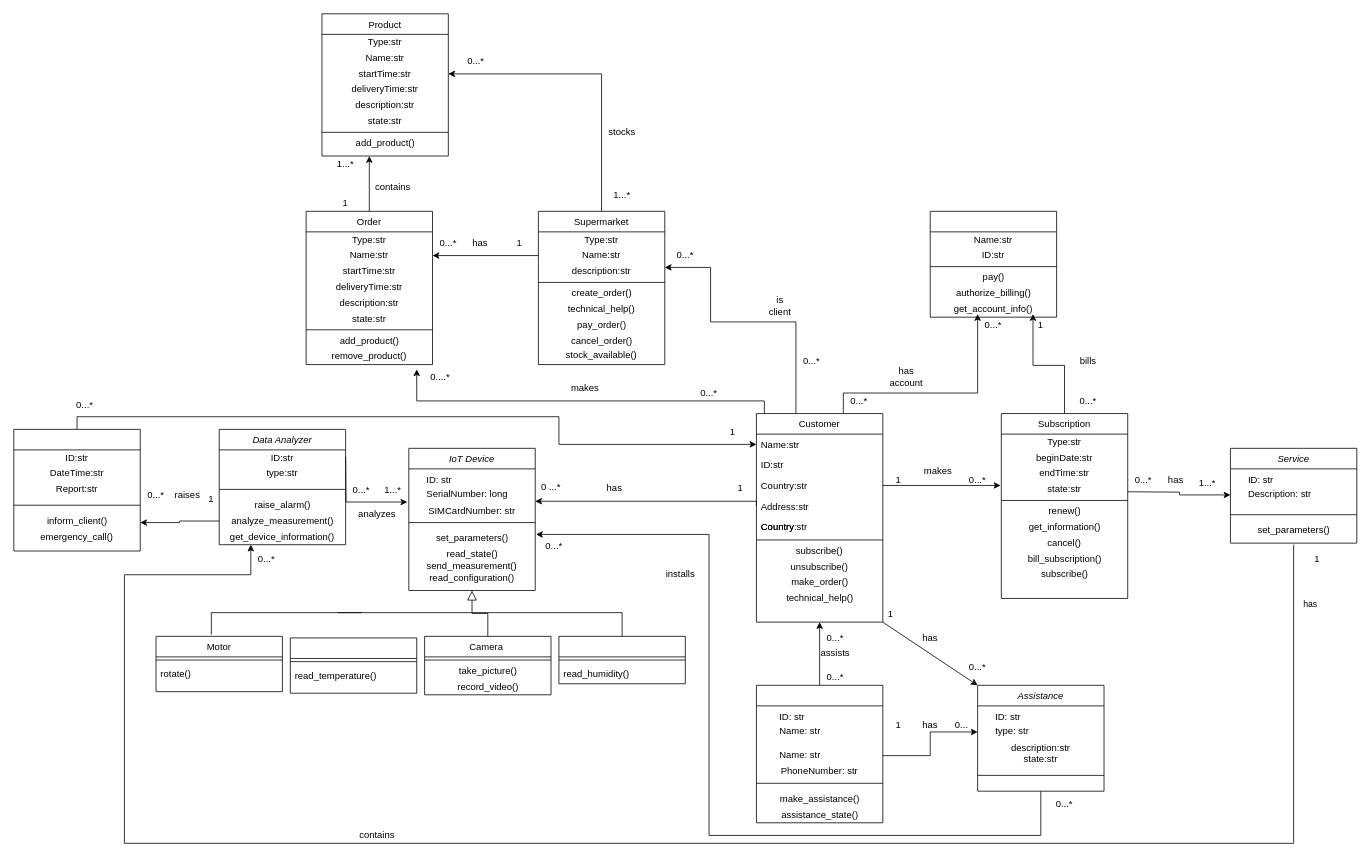
This 1371x863 diagram has some shape labels left out. The shapes that lost their labels are listed below. From the top down, each one's box as (x1, y1, x2, y2) in pixels, then its label:
(929, 211, 1057, 317): Bank
(13, 429, 140, 551): Alarm
(290, 637, 417, 693): Temperature Sensor
(558, 636, 685, 684): Humidity Sensor
(756, 685, 883, 823): Technician
